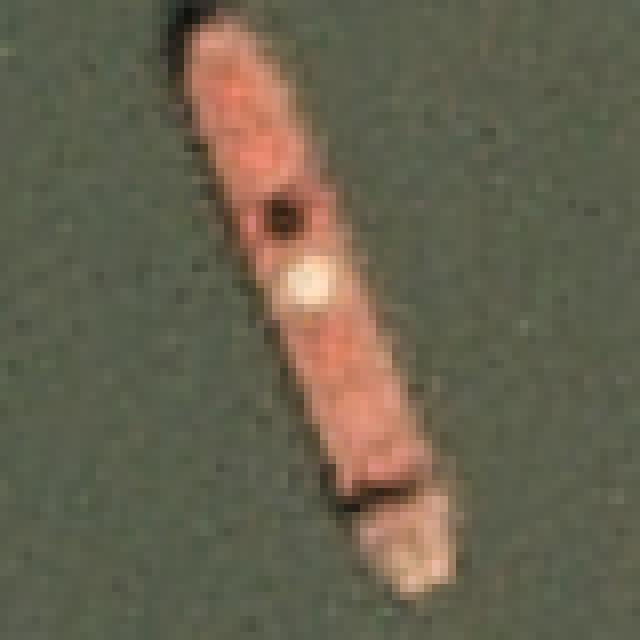ship: (159, 6, 525, 613)
